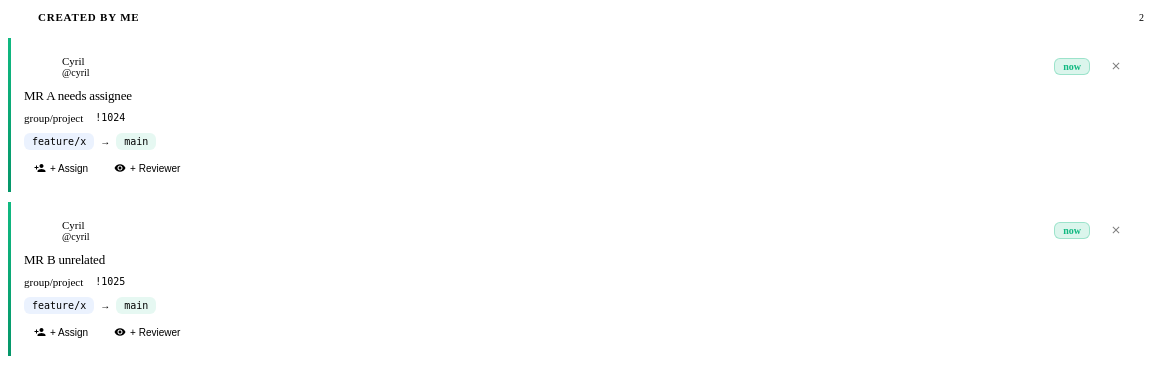
Scenario: MergeRequestsTab › wipes the transient "Done" visual when an UNRELATED MR is dismissed (index.html:2550,2643-2651)
This screenshot has width=1152, height=379.
Expected: the text "MR A needs assignee" is shown, x1=24 y1=88 x2=132 y2=103
// Complete an assign on MR A -- its button should now read "Done".
What coordinates should you click on to do the following:
click the button "+ Assign" below "1024"
I would click on:
 (61, 168)
Its box is x1=24 y1=158 x2=98 y2=178.
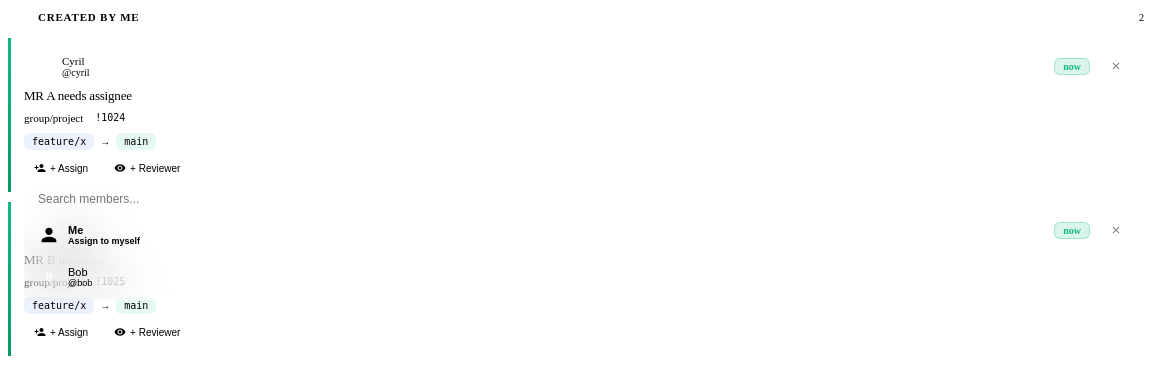
What coordinates should you click on to do the following:
click the text "Me"
I would click on:
 (76, 230)
Its box is x1=68 y1=224 x2=83 y2=236.
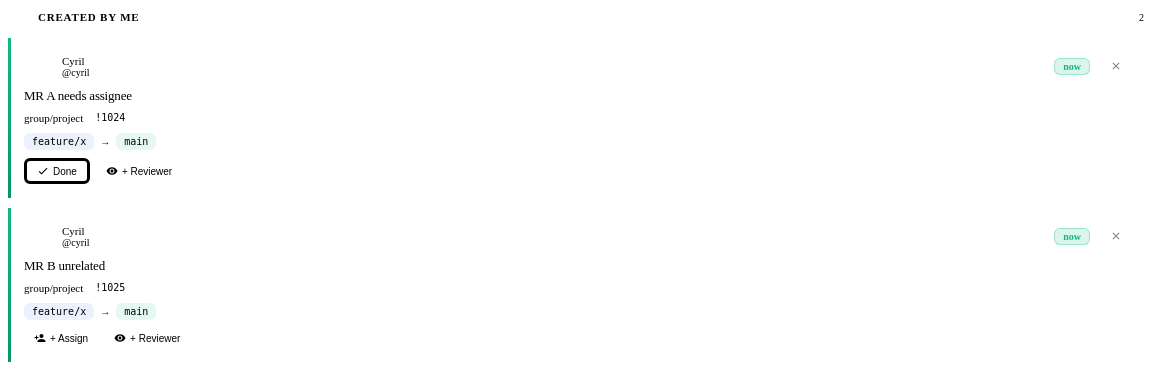
Expected: the button "Done" is shown, x1=24 y1=158 x2=90 y2=184
What coordinates should you click on to do the following:
click the 2nd button titled "Hide this MR"
I would click on:
 (1116, 236)
Its box is x1=1104 y1=224 x2=1128 y2=248.
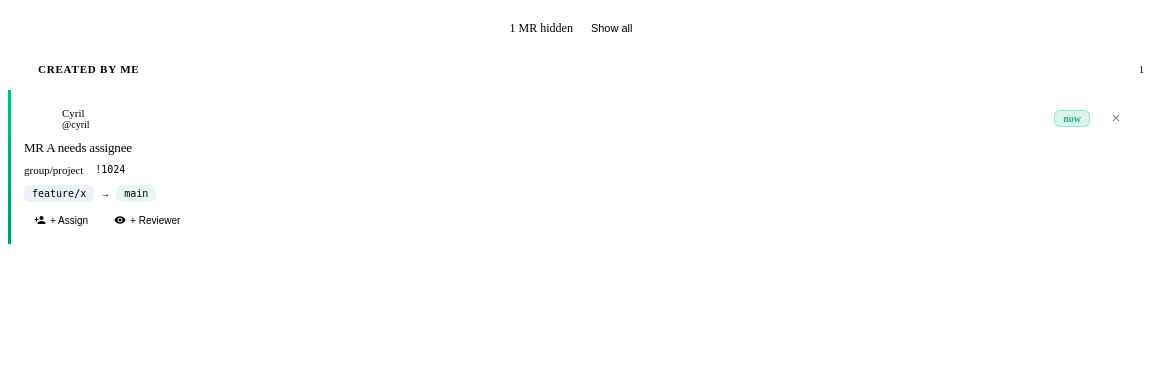
Expected: the button "Done" is gone
Expected: the button "+ Assign" is shown, x1=24 y1=210 x2=98 y2=230
